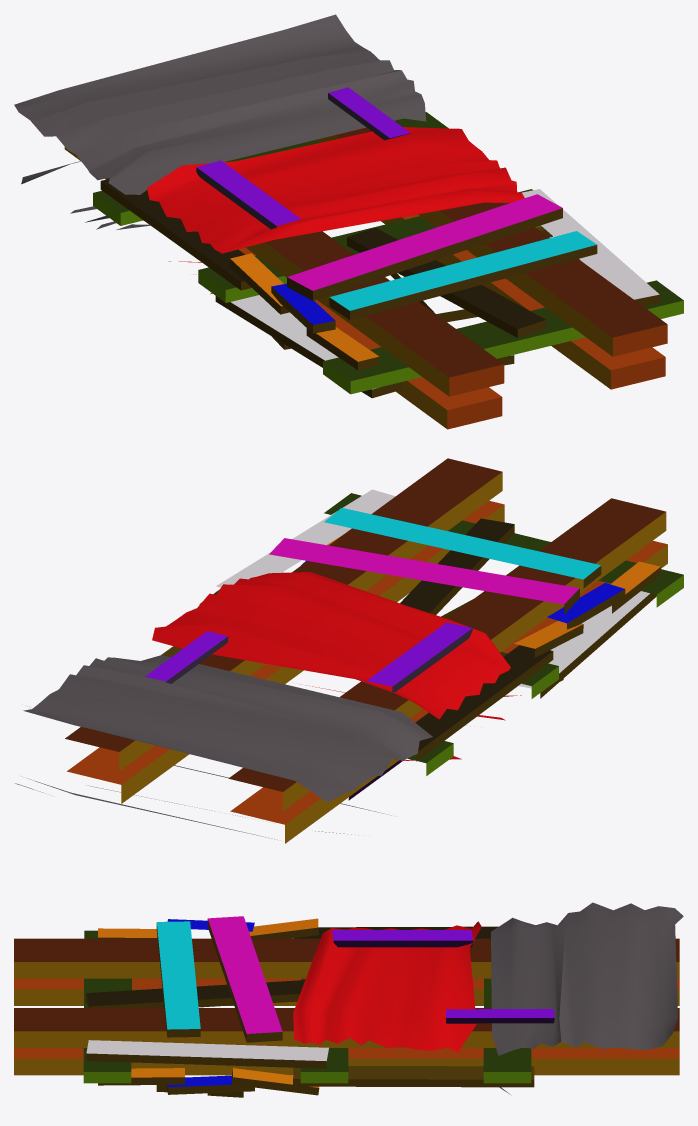
Rendered from Wall_3.gltf.
The picture shows the model from 3 angles, top to bottom: view 1: azimuth 30°, elevation 25°; view 2: azimuth 150°, elevation 25°; view 3: azimuth 270°, elevation 25°; orthographic projection. The views are drawn at different scales.
Visible parts, largest first — view 1: Wall_3; view 2: Wall_3; view 3: Wall_3.
Boxes of the visible parts, box(x1,y1,x2,y2) form: Wall_3: box(14, 14, 683, 429); Wall_3: box(15, 458, 683, 843); Wall_3: box(14, 902, 683, 1097).
Size of the model in its own units: 1025 by 268 by 2004.
